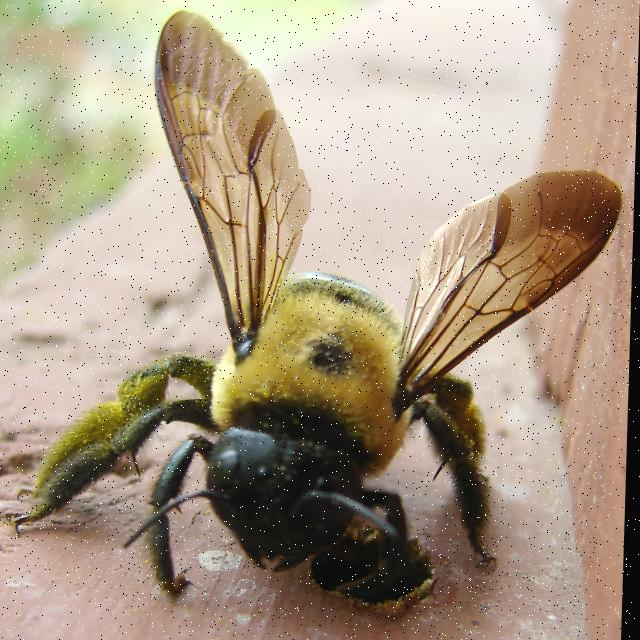Allodapula: (34, 1, 640, 621)
